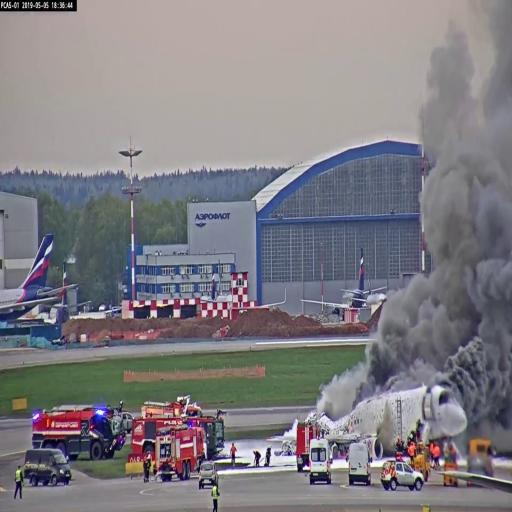smoke: (422, 23, 506, 343), (382, 286, 455, 385), (454, 338, 512, 414)
